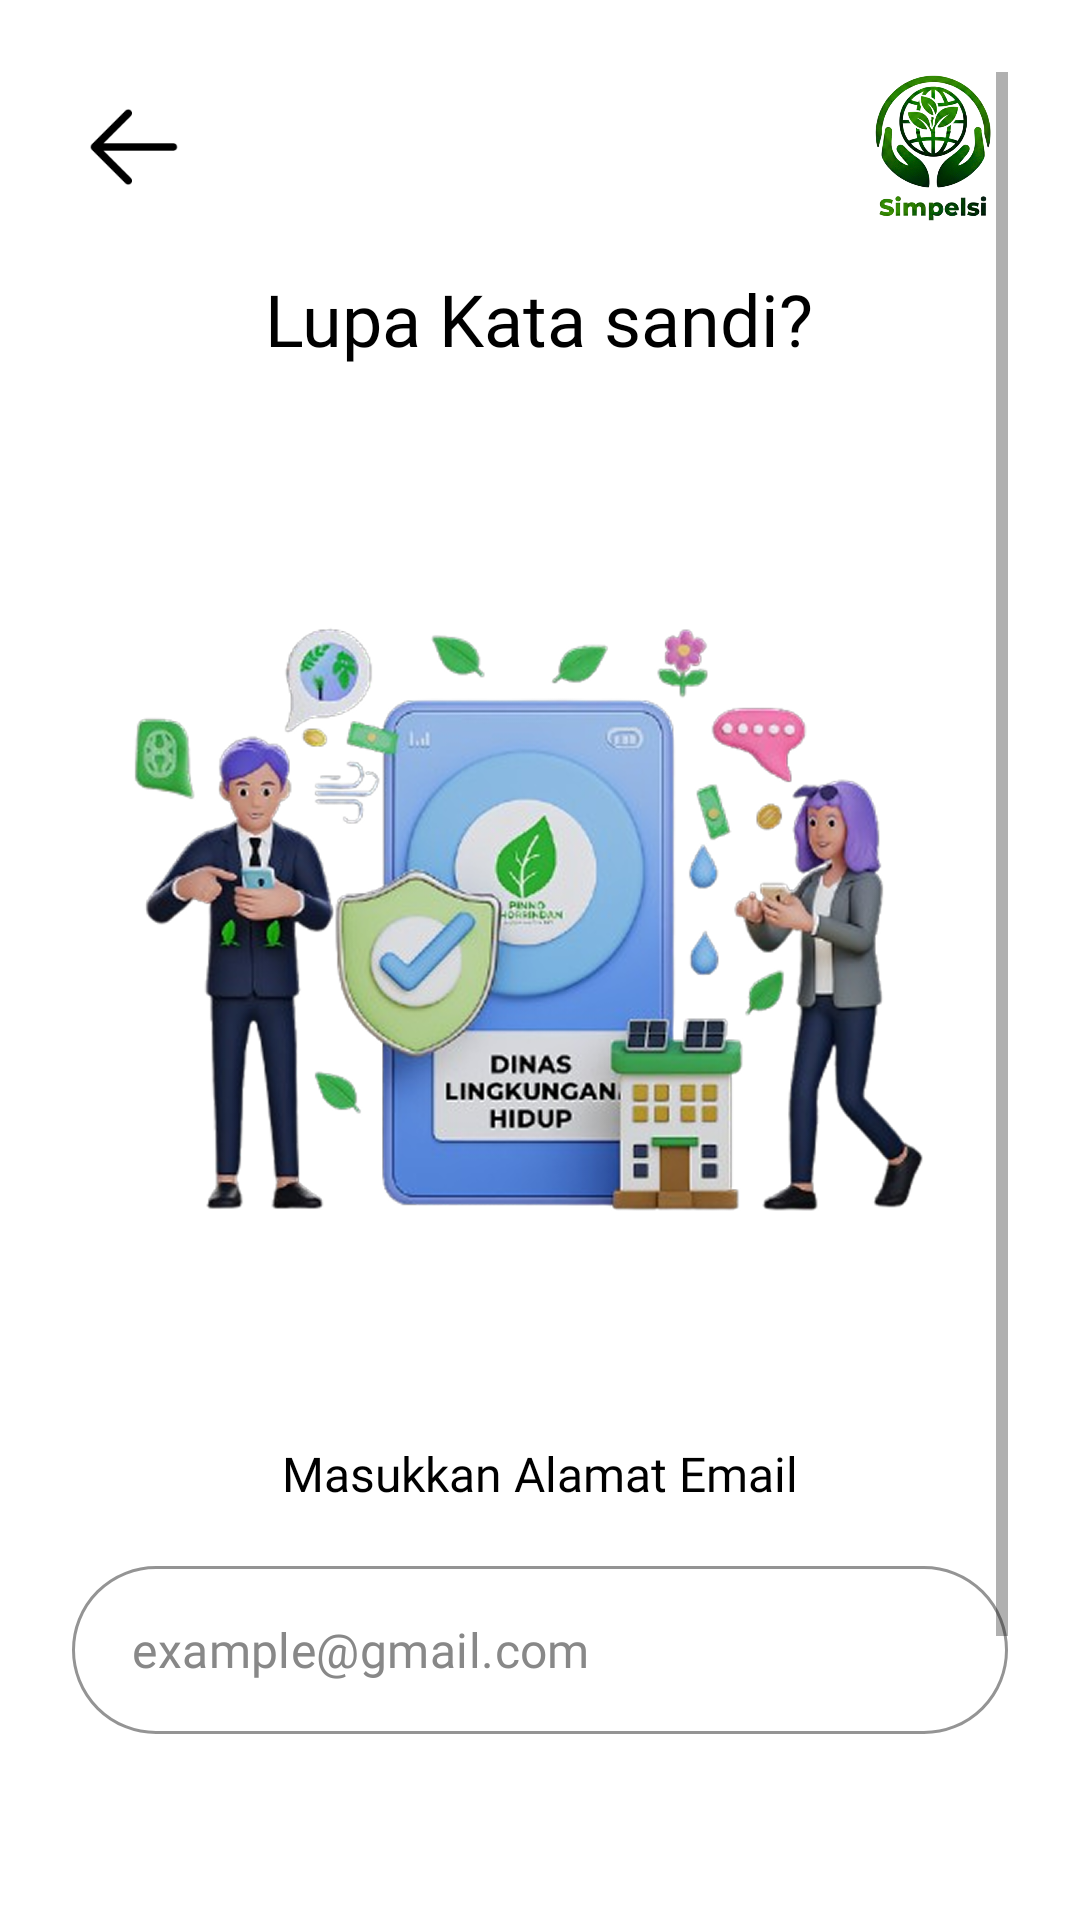

Where icons sit on this 1080x1920 app screen, as (x1, y1, x2, y2):
Kembali: (90, 109, 178, 185)
